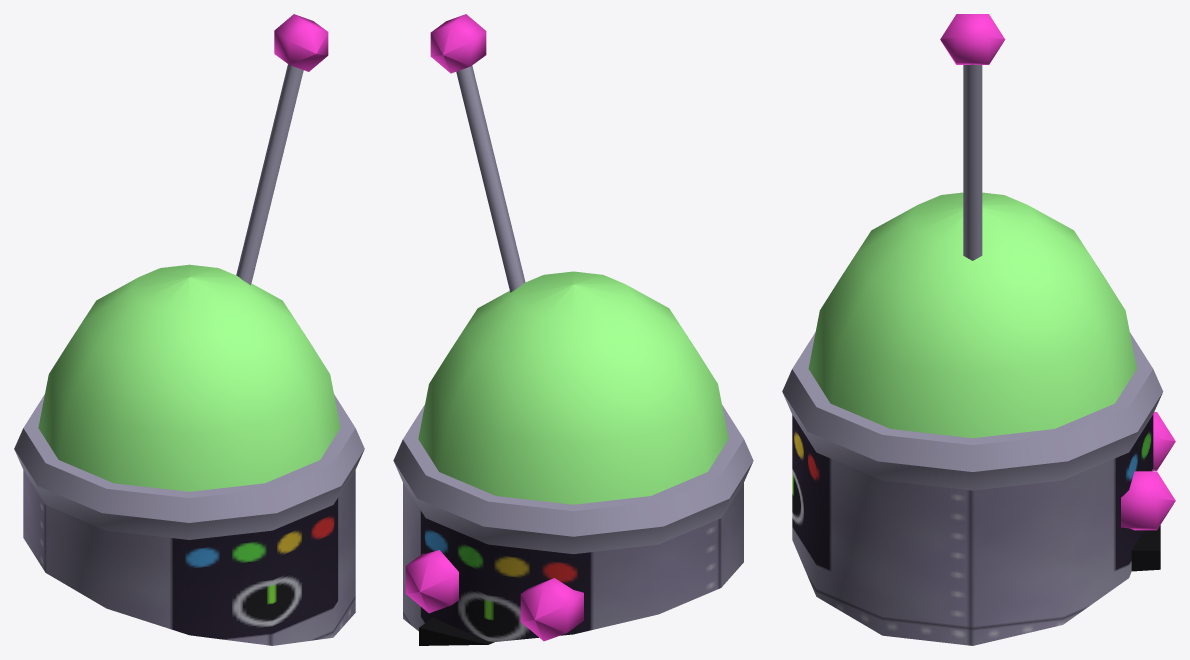
File: robot_sentinel_debris2.obj
The picture shows the model from 3 angles, left to right: view 1: azimuth 30°, elevation 25°; view 2: azimuth 150°, elevation 25°; view 3: azimuth 270°, elevation 25°; orthographic projection. The views are drawn at different scales.
Visible parts, largest first — view 1: brain_dome, head, antenna, antenna_bulb; view 2: brain_dome, head, eye, antenna, antenna_bulb, grille; view 3: head, brain_dome, antenna, eye, antenna_bulb, grille.
Part boxes in pixels (<box>): brain_dome: <box>38,264,340,491</box>; head: <box>14,394,364,645</box>; antenna: <box>236,64,303,285</box>; antenna_bulb: <box>274,14,328,71</box>; brain_dome: <box>418,271,728,504</box>; head: <box>393,405,753,641</box>; eye: <box>405,550,583,641</box>; antenna: <box>456,65,525,292</box>; antenna_bulb: <box>430,14,486,73</box>; grille: <box>419,618,494,645</box>; head: <box>782,332,1163,645</box>; brain_dome: <box>808,192,1136,438</box>; antenna: <box>963,64,982,260</box>; eye: <box>1121,412,1175,530</box>; antenna_bulb: <box>940,14,1005,64</box>; grille: <box>1131,525,1160,571</box>.
Bounding box in the file's own units: 1.31 × 2.33 × 1.35.
Materials: 6 (1 with a texture image).
